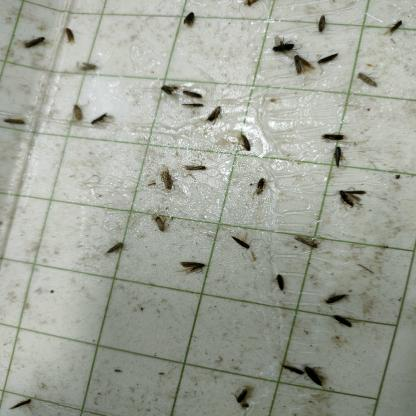prays_oleae: (175, 254, 210, 288), (267, 30, 296, 65), (332, 184, 364, 212), (316, 44, 341, 79), (90, 102, 113, 140), (293, 43, 313, 83), (304, 360, 326, 396), (231, 381, 257, 411), (20, 34, 46, 63), (2, 113, 25, 145), (202, 100, 225, 132), (357, 63, 377, 96), (294, 230, 318, 257), (280, 358, 304, 385), (156, 168, 178, 196), (322, 285, 350, 307), (385, 12, 403, 46), (104, 236, 126, 262), (75, 59, 104, 78), (322, 120, 347, 142), (152, 206, 170, 234), (250, 175, 269, 200), (230, 234, 254, 252), (182, 82, 204, 100), (236, 131, 254, 153), (71, 100, 86, 126), (184, 162, 208, 178), (274, 269, 288, 296), (330, 314, 353, 330), (158, 76, 177, 94), (332, 144, 344, 172), (314, 10, 329, 32), (182, 100, 206, 113), (63, 26, 77, 44)
